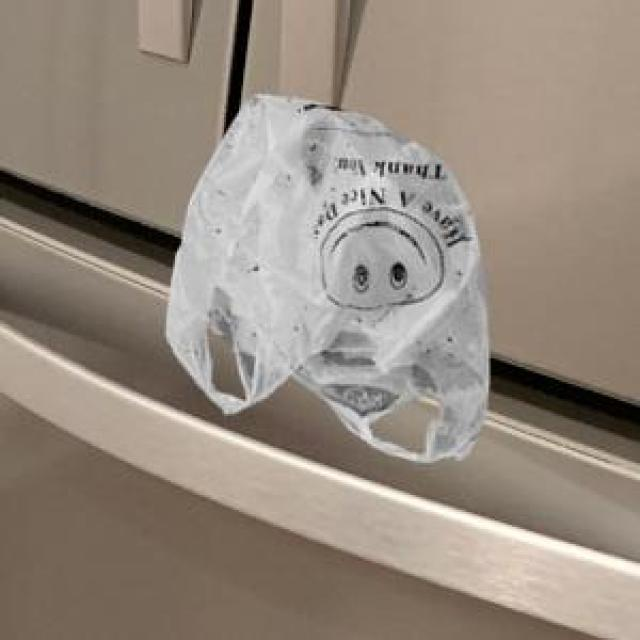waste: (168, 95, 488, 462)
